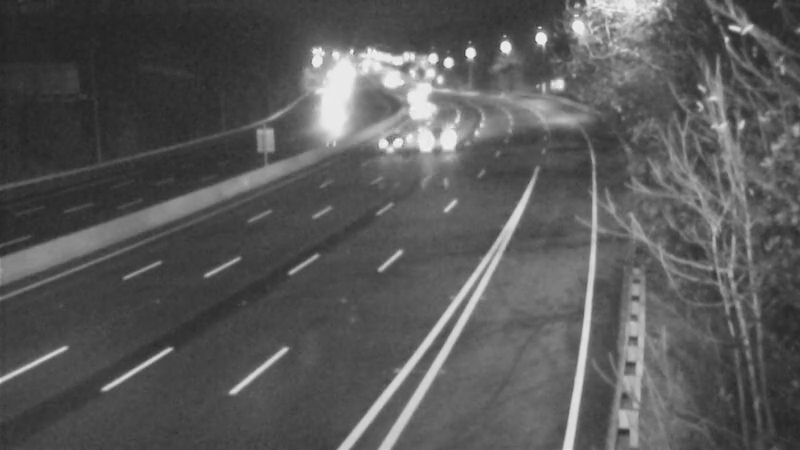vehicle: (396, 63, 446, 113), (388, 70, 438, 120), (398, 86, 448, 136), (403, 112, 453, 162), (369, 118, 419, 168)
